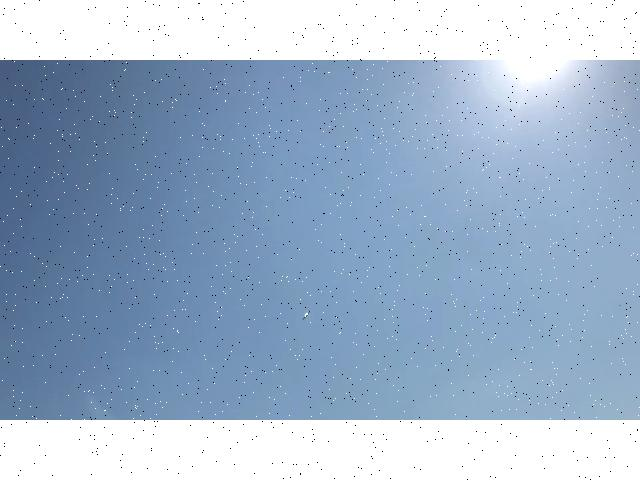Anti-Drone: (292, 301, 334, 334)
